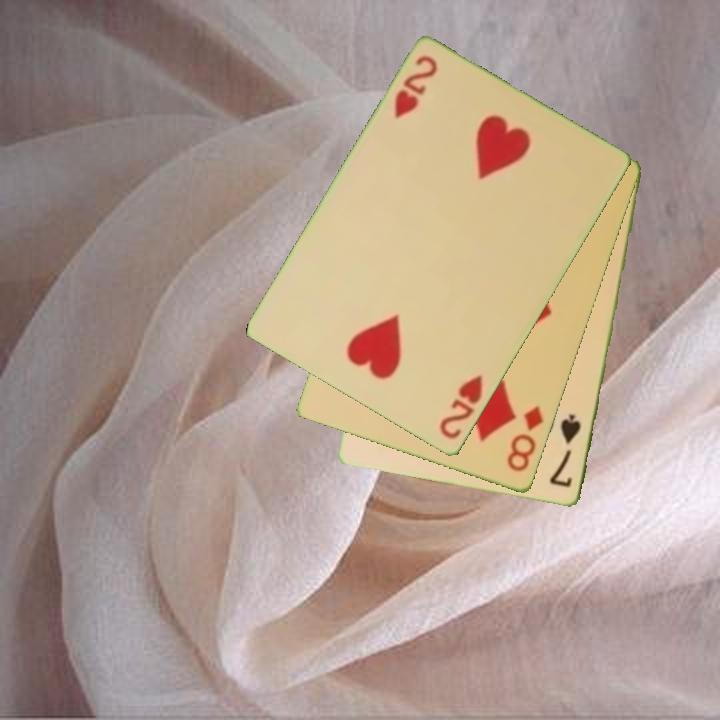2h: (436, 371, 486, 443), (391, 52, 441, 122)
7s: (546, 412, 584, 491)
8d: (503, 403, 547, 475)
